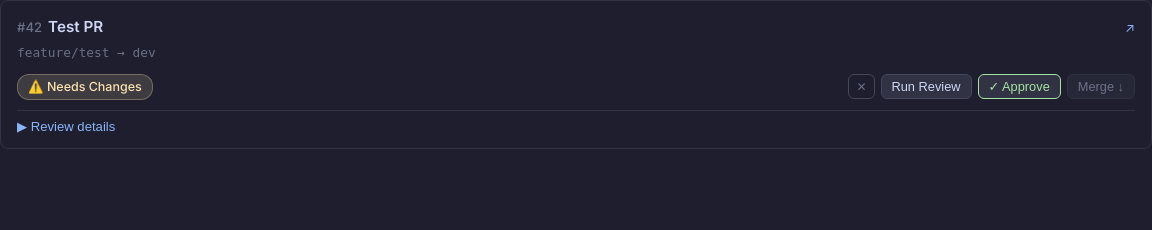
Test: PRCard › renders without crash when reviewResult has no dimensions property
What coordinates should you click on to do the following:
click the button "▶ Review details"
I would click on:
 (66, 126)
Its box is top-left (17, 119), bottom-right (115, 134).
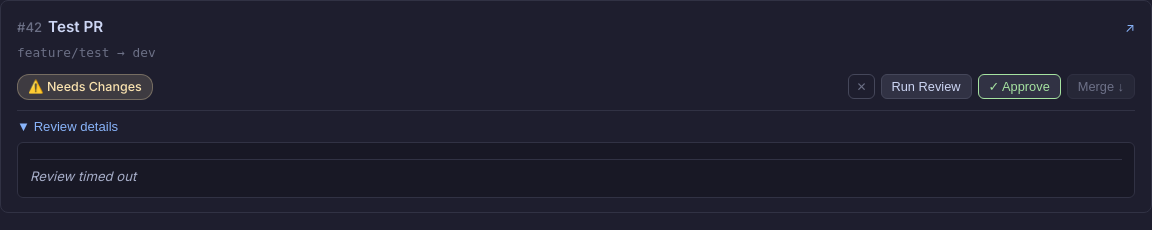
Expected: the text "Review timed out" is shown, top-left (30, 159), bottom-right (1122, 187)
